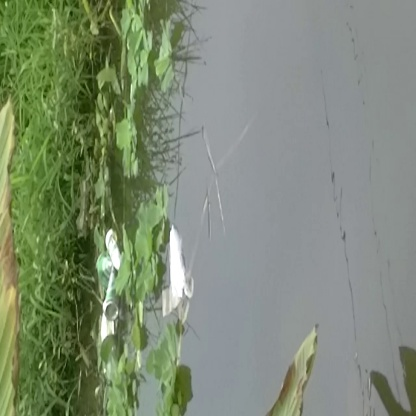bottle: (90, 249, 134, 320)
